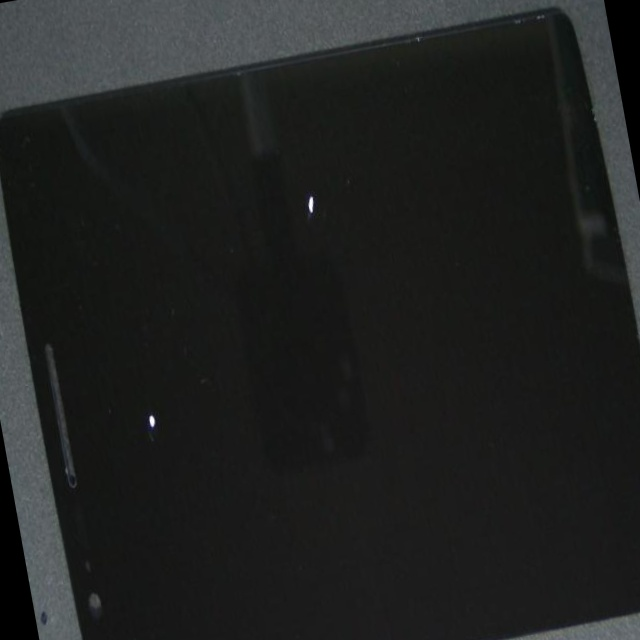stain: (71, 59, 508, 413), (6, 225, 276, 640)
